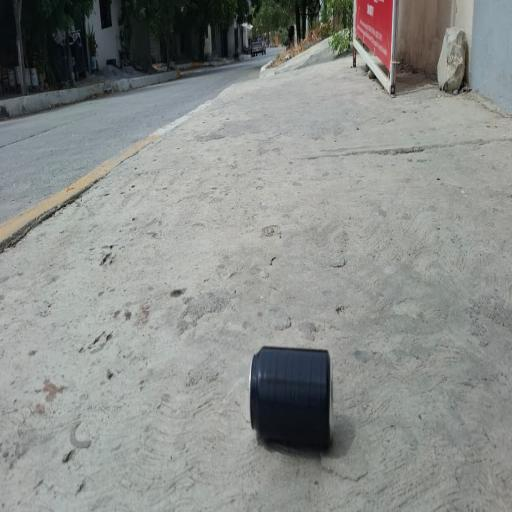LATA: (240, 343, 341, 466)
